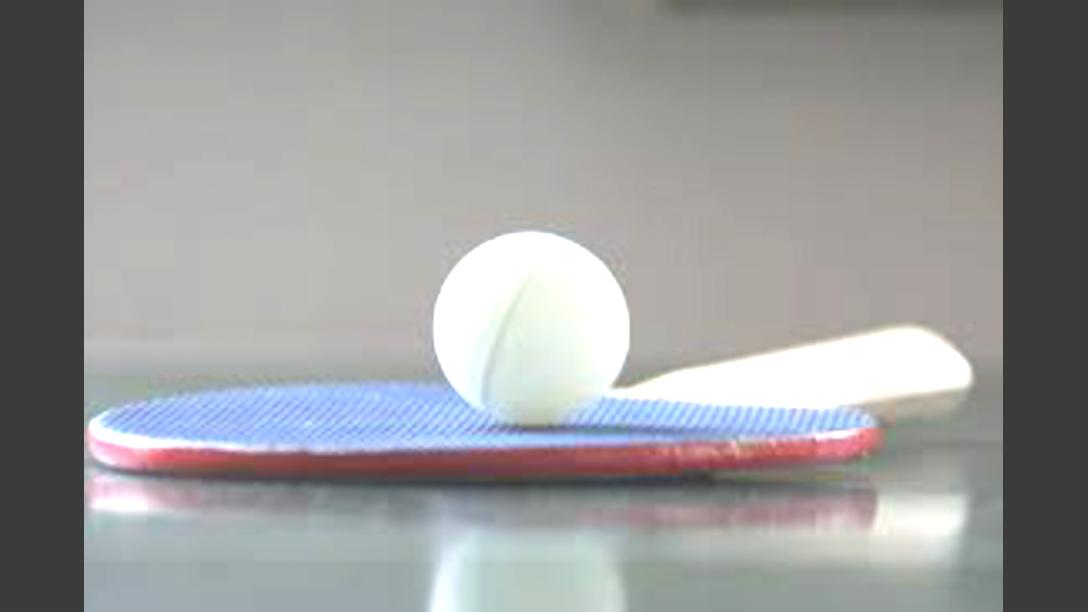Table-Tennis-Ball: (437, 230, 627, 416)
